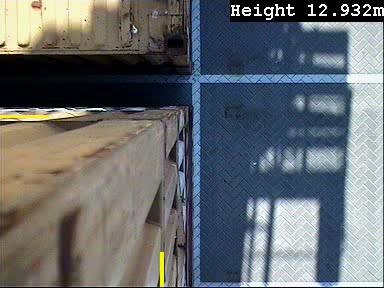groundmarker_2: (21, 119, 116, 201)
